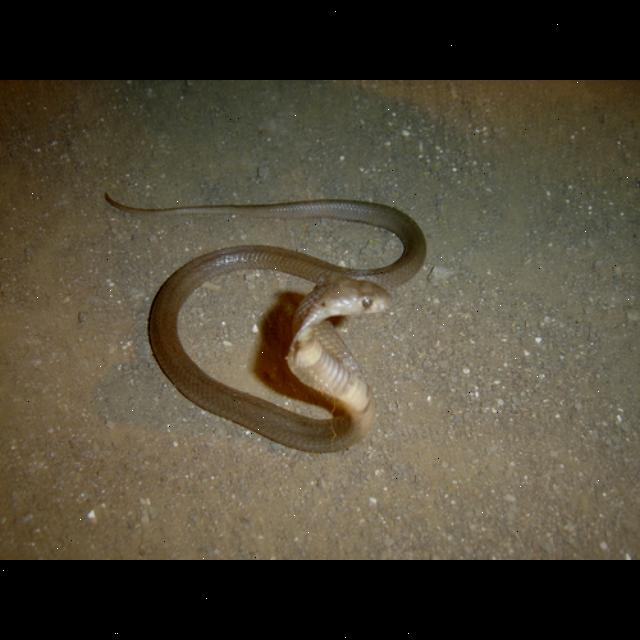snake: (95, 182, 433, 463)
